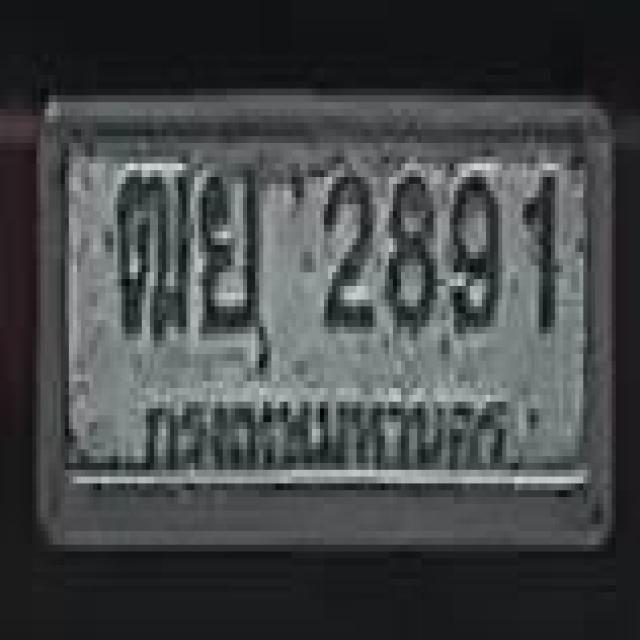license_plate: (34, 81, 617, 554)
